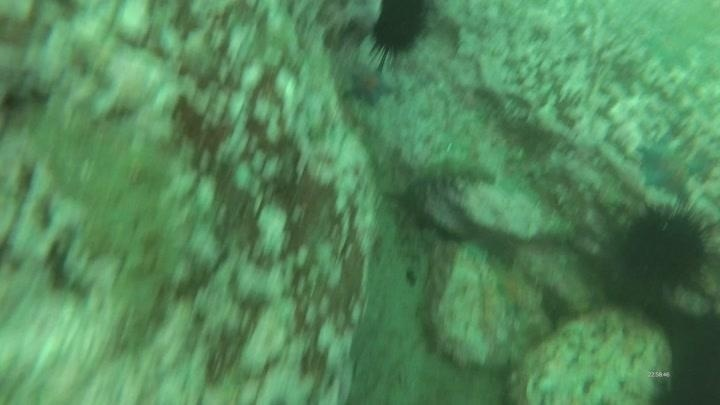echinus: (615, 202, 714, 293), (363, 1, 434, 64)
holothurian: (391, 148, 498, 200)
starfish: (634, 135, 708, 203), (342, 60, 396, 108), (641, 27, 696, 69), (491, 264, 529, 310)
